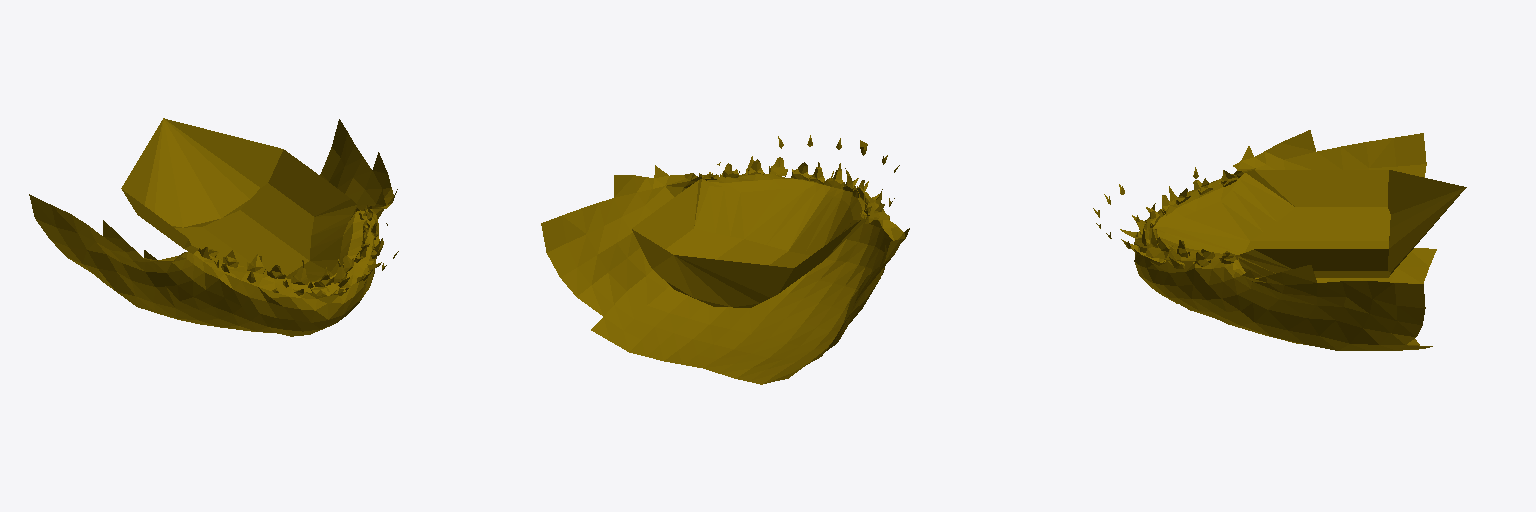
The model's file is tbMandibula.obj.
The picture shows the model from 3 angles: view 1: azimuth 30°, elevation 25°; view 2: azimuth 150°, elevation 25°; view 3: azimuth 270°, elevation 25°; orthographic projection.
Visible parts, largest first — view 1: Object003; view 2: Object003; view 3: Object003.
Boxes of the visible parts, x1=… form: Object003: x1=29, y1=118, x2=398, y2=336; Object003: x1=541, y1=135, x2=909, y2=384; Object003: x1=1093, y1=130, x2=1466, y2=350.
Size of the model in its own units: 3.48 by 1.49 by 3.64.